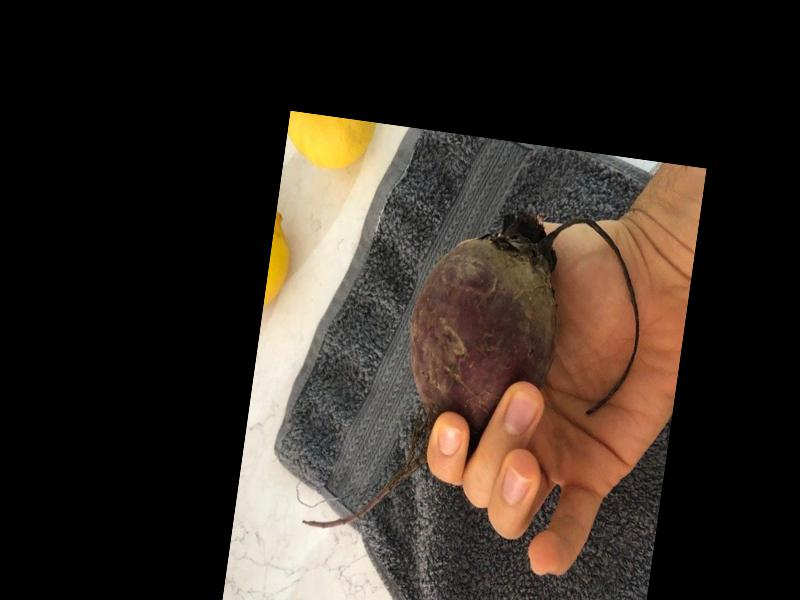Beet: (302, 189, 653, 566)
